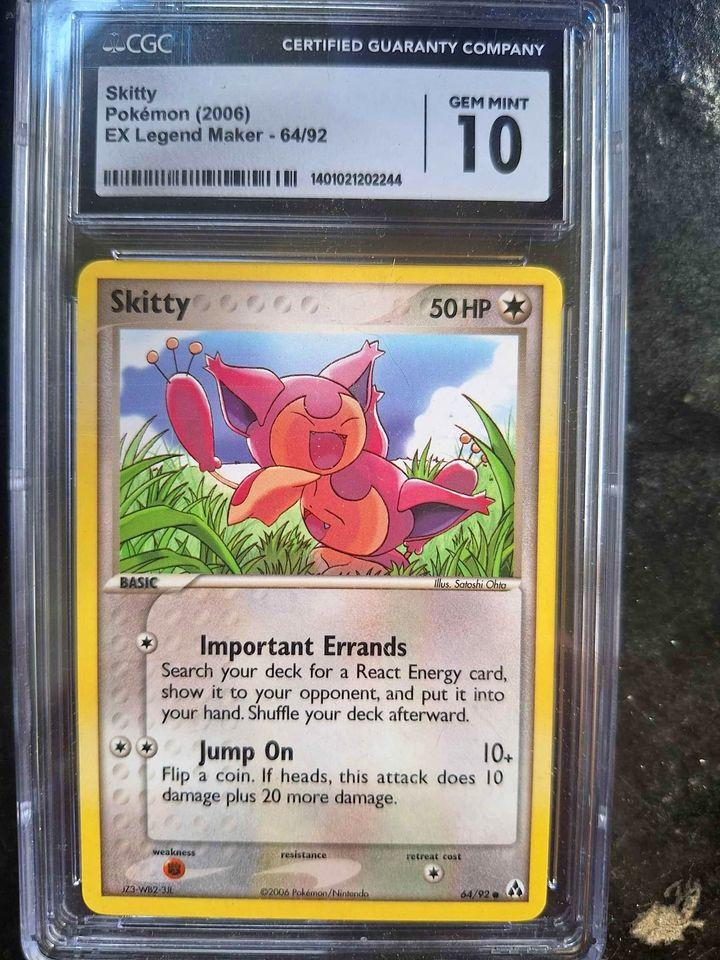card: (72, 256, 565, 926)
name: (99, 281, 211, 327)
set num: (456, 885, 492, 904)
set symbol: (504, 876, 526, 900)
